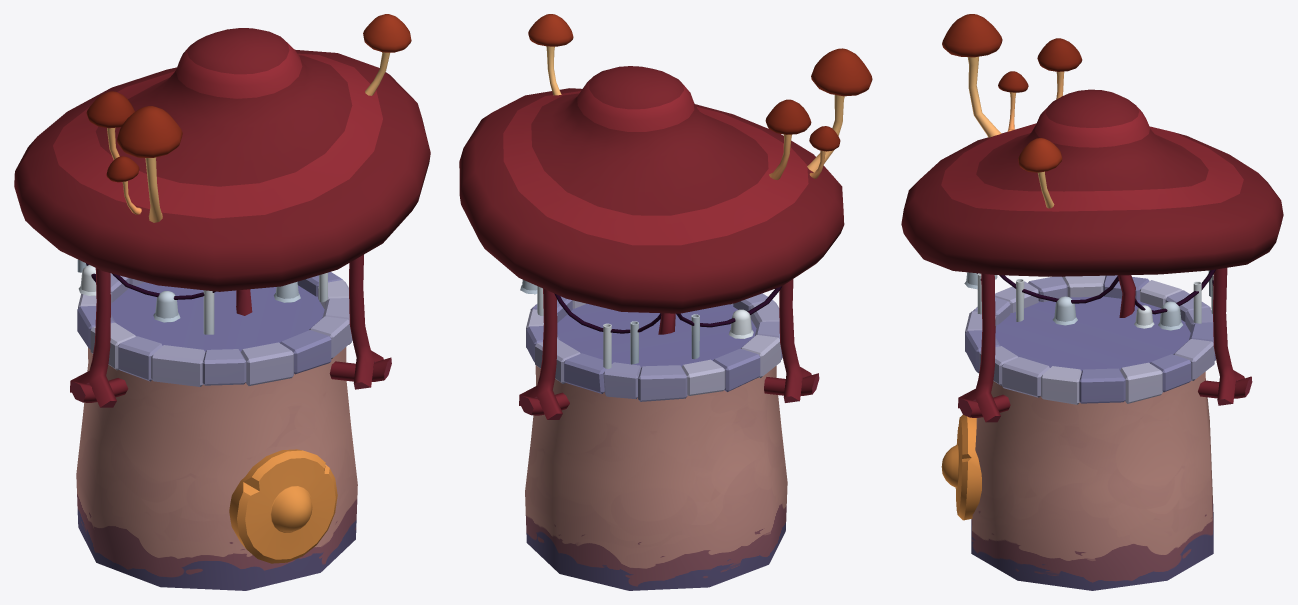
File: S_House2.fbx
The picture shows the model from 3 angles, left to right: view 1: azimuth 30°, elevation 25°; view 2: azimuth 150°, elevation 25°; view 3: azimuth 270°, elevation 25°; orthographic projection. The views are drawn at different scales.
Visible parts, largest first — view 1: S_House2; view 2: S_House2; view 3: S_House2.
Boxes of the visible parts, left/top/right/bottom form: S_House2: left=14, top=14, right=430, bottom=590; S_House2: left=459, top=14, right=872, bottom=590; S_House2: left=901, top=14, right=1283, bottom=590.
Bounding box in the file's own units: 693 × 932 × 698.
